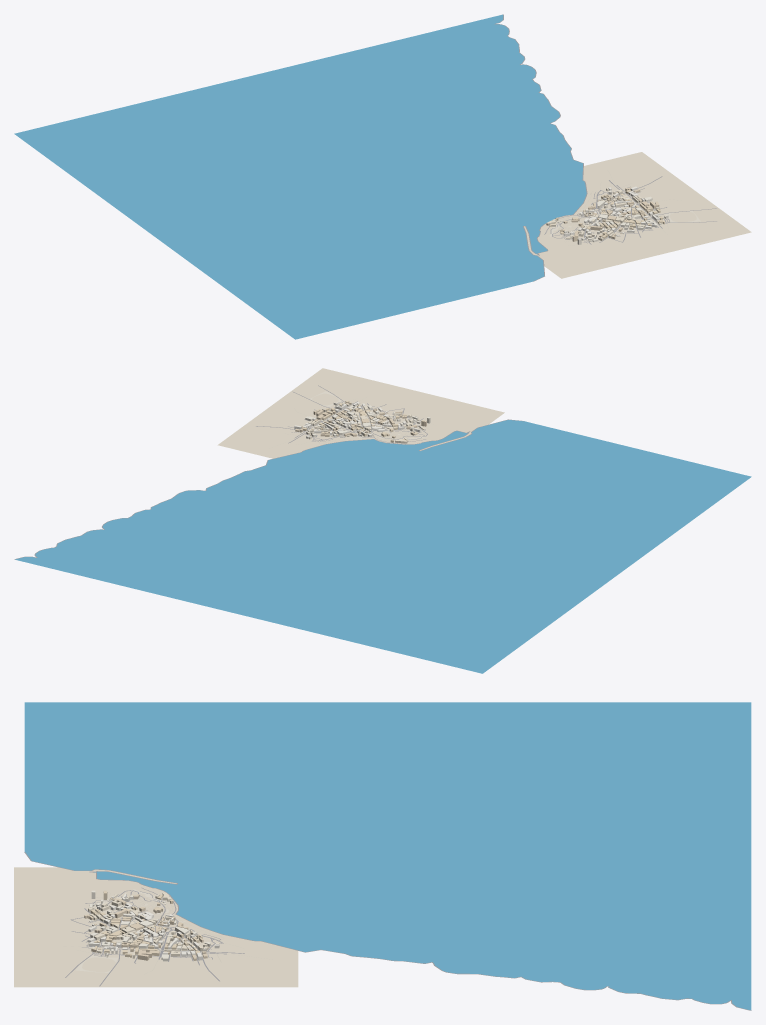
Rendered from jaffa.glb.
3 views of the same model, one above another, from view 1: azimuth 30°, elevation 25°; view 2: azimuth 150°, elevation 25°; view 3: azimuth 270°, elevation 25° (orthographic). The views are drawn at different scales.
Visible parts, largest first — view 1: sea, ground, element.331_road; view 2: sea, ground, element.331_road; view 3: sea, ground, element.331_road.
Boxes of the visible parts, box(x1,y1,x2,y2) form: sea: box(14, 14, 586, 339); ground: box(524, 152, 751, 278); element.331_road: box(494, 14, 587, 281); sea: box(15, 420, 751, 673); ground: box(217, 368, 504, 458); element.331_road: box(14, 419, 524, 559); sea: box(24, 702, 751, 1010); ground: box(14, 867, 298, 987); element.331_road: box(24, 852, 751, 1010).
Bounding box in the file's own units: 4110 × 48.1 × 4155.
